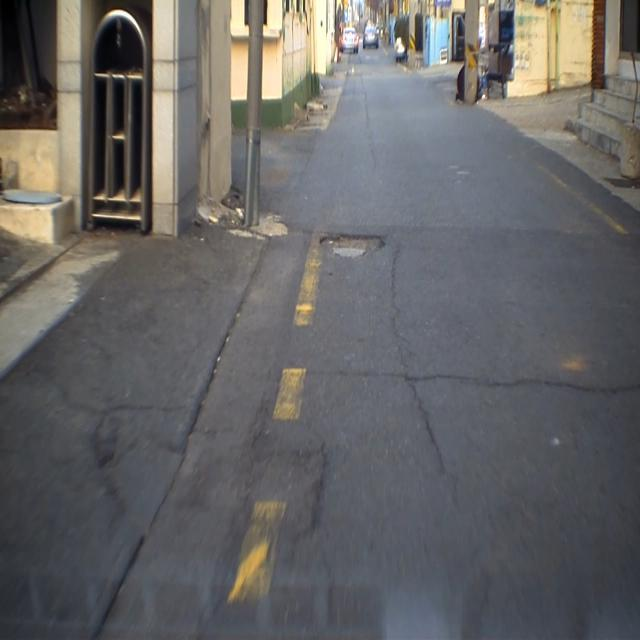pothole: (316, 214, 387, 277), (90, 431, 134, 494)
